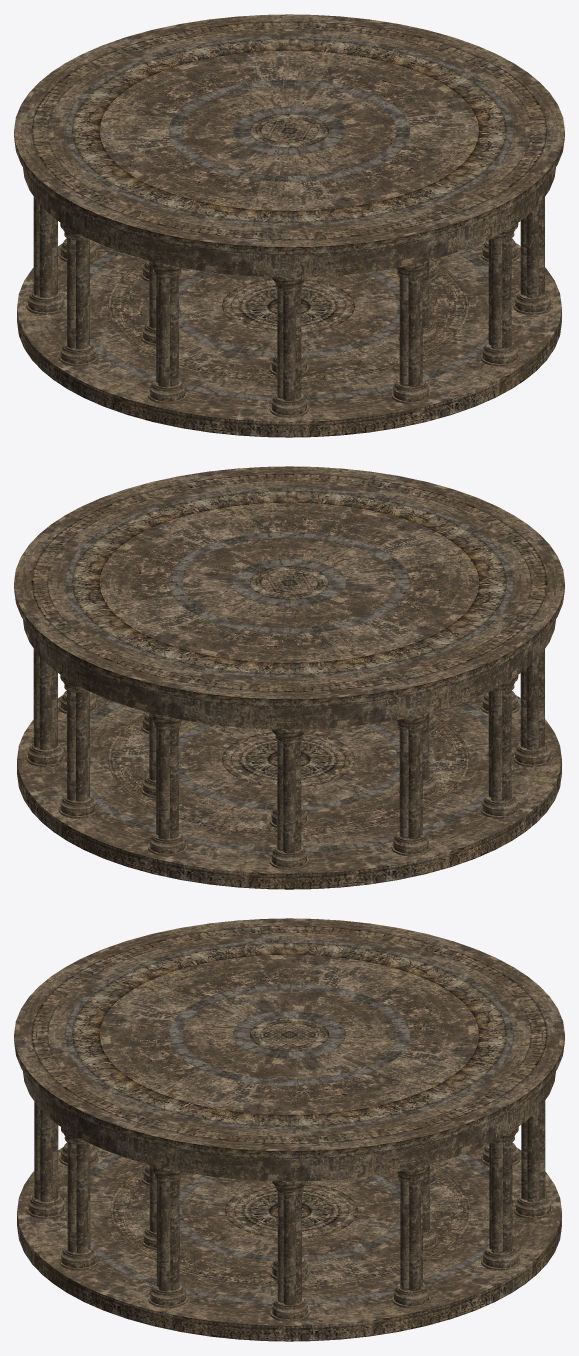
File: materials_5_building_32.fbx
3 views of the same model, one above another, from view 1: azimuth 30°, elevation 25°; view 2: azimuth 150°, elevation 25°; view 3: azimuth 270°, elevation 25° (orthographic).
Parts seen in each view (by area): view 1: materials_5_building_32; view 2: materials_5_building_32; view 3: materials_5_building_32.
Part boxes in pixels (left/top/right/bottom): materials_5_building_32: left=14, top=14, right=564, bottom=437; materials_5_building_32: left=14, top=466, right=564, bottom=889; materials_5_building_32: left=14, top=918, right=564, bottom=1341.
Bounding box in the file's own units: 1076 × 413 × 1076.
